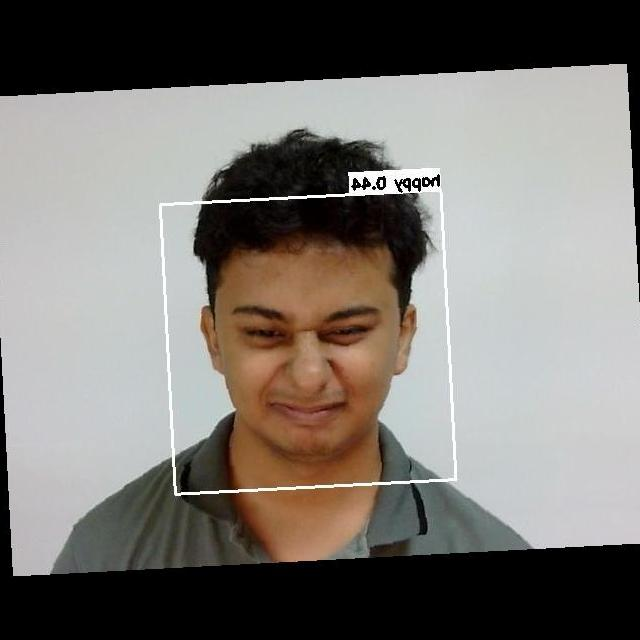Angry: (227, 281, 409, 429)
